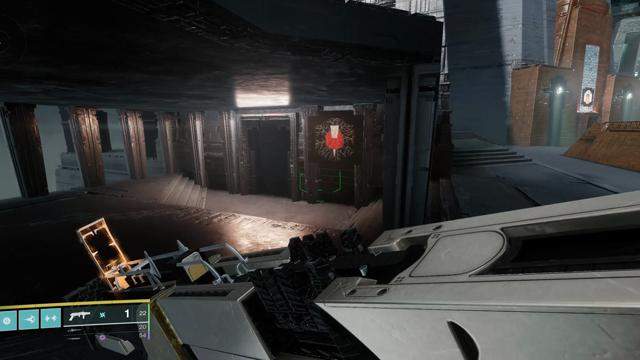kill: (315, 118, 354, 162)
worship: (584, 90, 592, 104)
